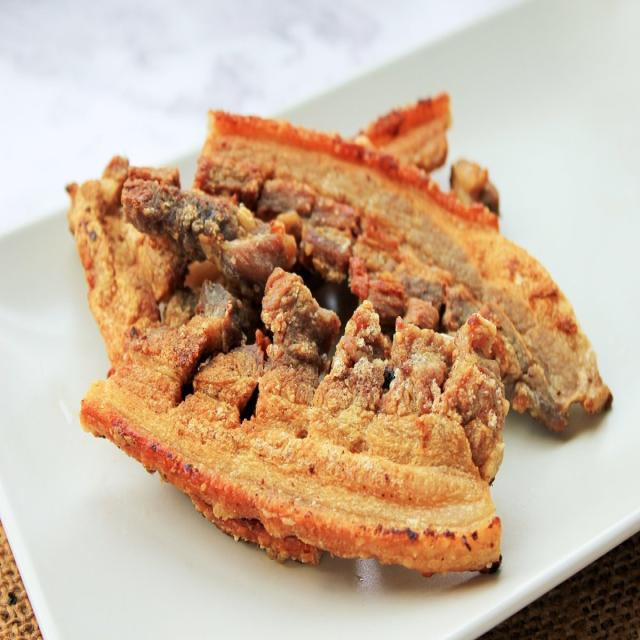carne de cerdo: (181, 79, 614, 462), (78, 268, 520, 585)
